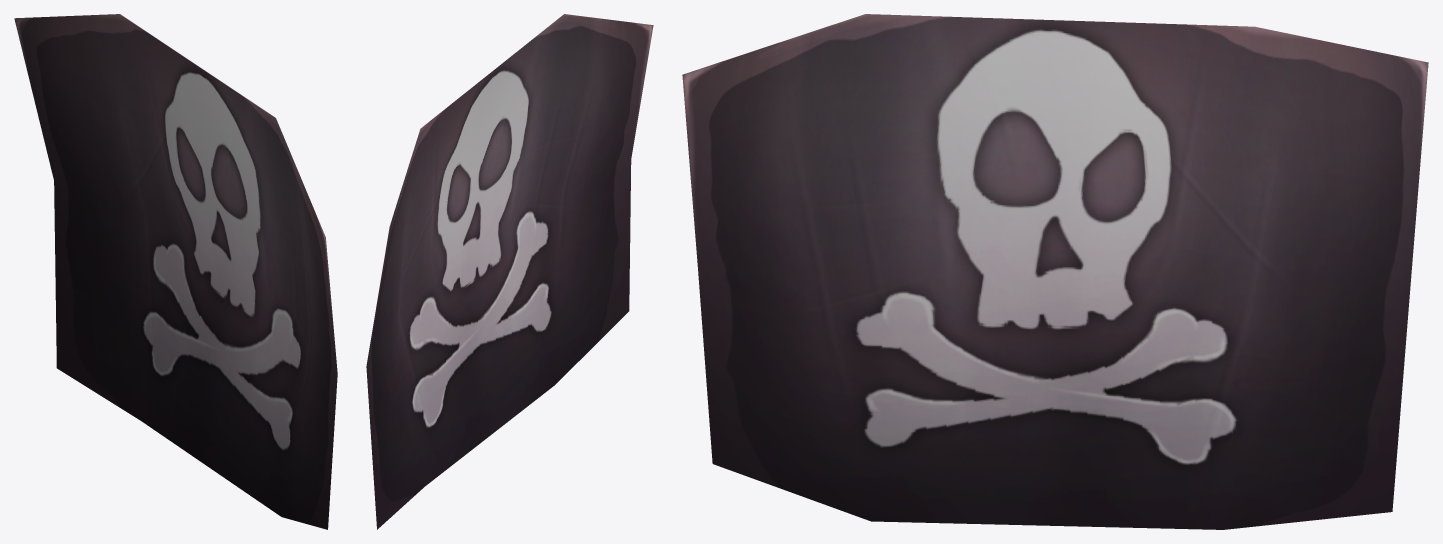
Rendered from pirate_flag.glb.
The picture shows the model from 3 angles, left to right: view 1: azimuth 30°, elevation 25°; view 2: azimuth 150°, elevation 25°; view 3: azimuth 270°, elevation 25°; orthographic projection. The views are drawn at different scales.
Parts seen in each view (by area): view 1: pirat_flag.001; view 2: pirat_flag.001; view 3: pirat_flag.001.
Boxes of the visible parts, x1=… form: pirat_flag.001: x1=14, y1=14, x2=337, y2=529; pirat_flag.001: x1=366, y1=14, x2=653, y2=529; pirat_flag.001: x1=682, y1=14, x2=1428, y2=529.
Bounding box in the file's own units: 0.2707 × 1.72 × 2.27.
Materials: 1 (1 with a texture image).
